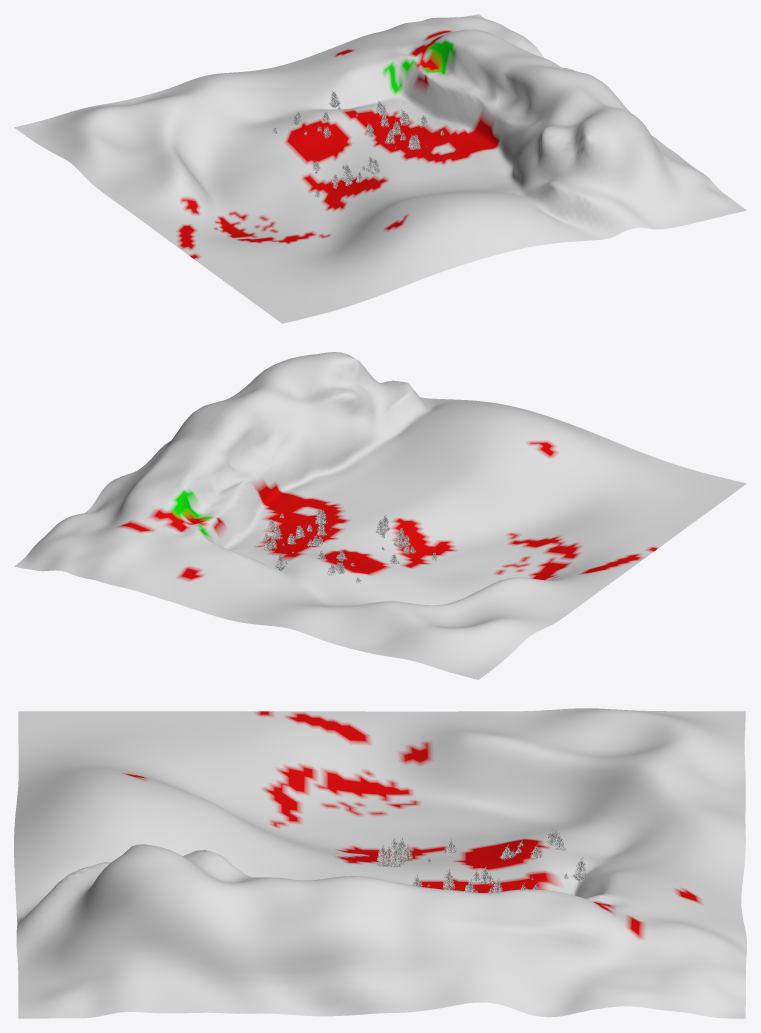
File: TerrainTest.gltf
3 renders of one model, top to bottom at view 1: azimuth 30°, elevation 25°; view 2: azimuth 150°, elevation 25°; view 3: azimuth 270°, elevation 25°, orthographic. The views are drawn at different scales.
Parts seen in each view (by area): view 1: Terrain; view 2: Terrain; view 3: Terrain.
Part boxes in pixels (x1,y1,x2,y2): Terrain: (14, 14, 746, 323); Terrain: (14, 352, 746, 679); Terrain: (14, 708, 746, 1018).
Bounding box in the file's own units: 301 × 60.39 × 303.
